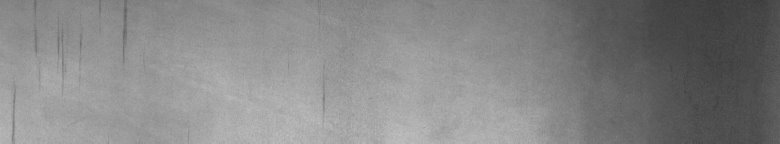ka: (9, 4, 128, 136)
